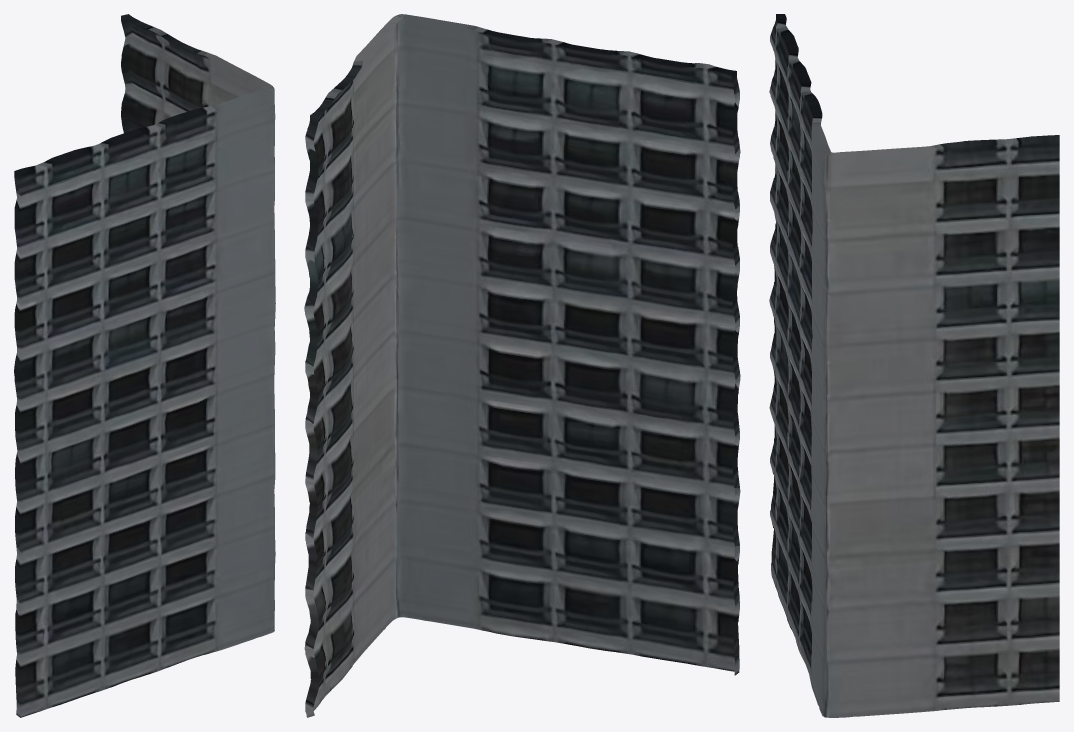
The model's file is z20-167751-405243-h1-yup-uvflip-v3-world.glb.
3 views of the same model, side by side, from view 1: azimuth 30°, elevation 25°; view 2: azimuth 150°, elevation 25°; view 3: azimuth 270°, elevation 25° (orthographic). The views are drawn at different scales.
Size of the model in its own units: 18.08 by 33.24 by 15.56.
1 material, 1 textured.
